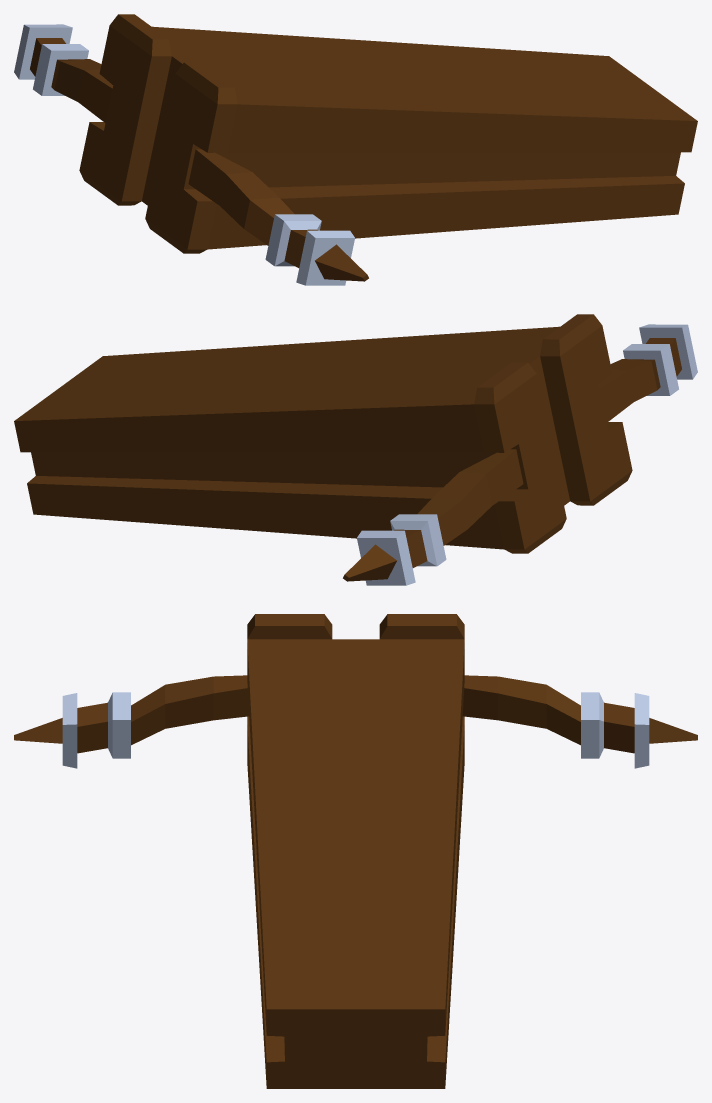
Rendered from ShooterHead.fbx.
3 renders of one model, top to bottom at view 1: azimuth 30°, elevation 25°; view 2: azimuth 150°, elevation 25°; view 3: azimuth 270°, elevation 25°, orthographic.
Visible parts, largest first — view 1: ShooterHead; view 2: ShooterHead; view 3: ShooterHead.
Part boxes in pixels (left/top/right/bottom): ShooterHead: left=14, top=14, right=697, bottom=285; ShooterHead: left=14, top=314, right=697, bottom=585; ShooterHead: left=14, top=614, right=697, bottom=1088.
Bounding box in the file's own units: 558 × 251 × 632.
